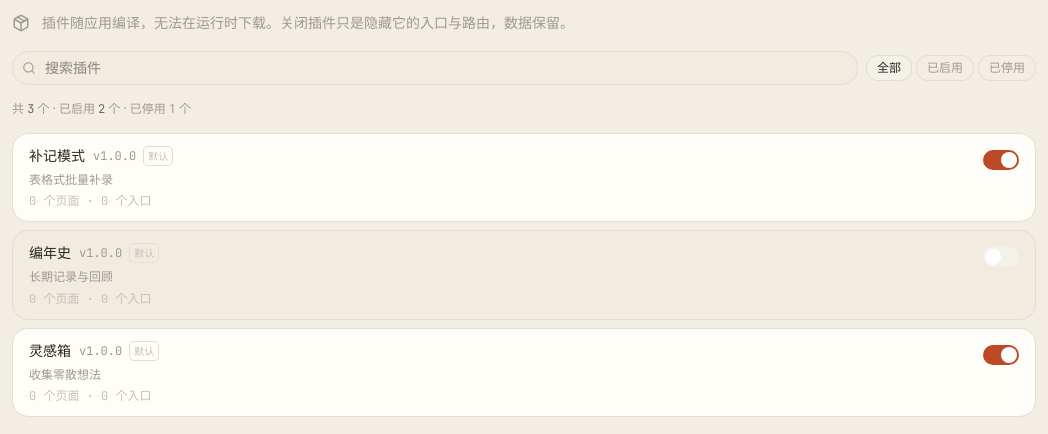
SettingsPlugins — 搜索与筛选 › 筛选「已启用」只留启用的插件
Click the radio button labelled "已启用" at (945, 68), box [916,55,974,81]
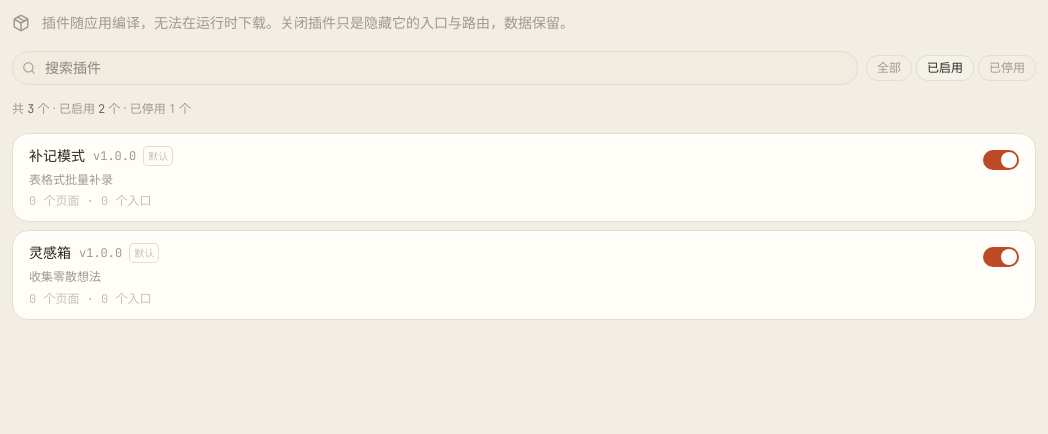
Expected: the text "补记模式" is shown, [29,146,85,166]
Expected: the text "编年史" is gone
